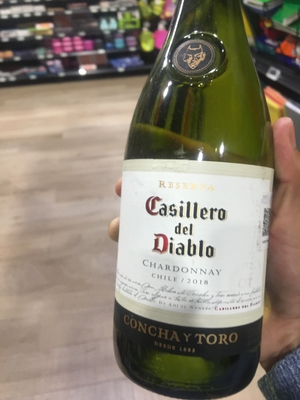casillero del diablo chardonnay: (102, 41, 276, 390)
